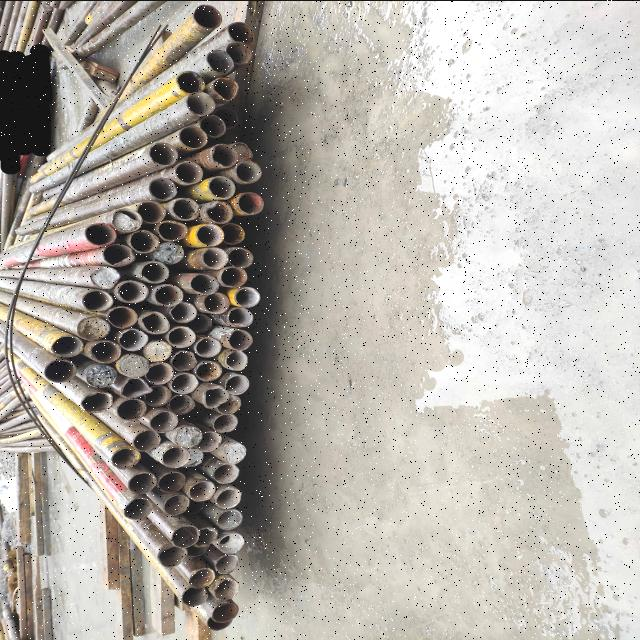pipe: (75, 315, 113, 341), (82, 221, 120, 247), (114, 278, 151, 304), (84, 362, 118, 389), (42, 358, 77, 384), (109, 207, 144, 233), (87, 339, 123, 364), (49, 333, 85, 358), (146, 140, 178, 168), (175, 68, 207, 96), (116, 352, 150, 378), (80, 288, 114, 314), (184, 90, 218, 116), (192, 2, 226, 28), (136, 260, 172, 284), (101, 242, 137, 266), (206, 173, 238, 200), (173, 159, 206, 185), (150, 282, 184, 307), (134, 199, 168, 224), (138, 309, 170, 335), (116, 326, 148, 352), (88, 264, 120, 290), (129, 228, 161, 254), (234, 190, 266, 216), (147, 176, 179, 202), (176, 125, 208, 151), (80, 389, 114, 413), (187, 272, 221, 296), (156, 469, 188, 494), (148, 409, 180, 434), (154, 240, 186, 265), (194, 222, 226, 247), (118, 376, 154, 398), (202, 200, 235, 224), (168, 197, 202, 220), (200, 384, 230, 410), (211, 76, 241, 102), (205, 48, 235, 74), (173, 424, 204, 449), (169, 524, 201, 548), (122, 496, 154, 520), (159, 444, 191, 468), (130, 428, 162, 452), (168, 300, 200, 324), (106, 305, 138, 329), (109, 446, 142, 469), (164, 325, 197, 348), (210, 142, 238, 169), (224, 40, 253, 66), (156, 220, 190, 242), (168, 370, 199, 394), (143, 360, 174, 384), (116, 398, 148, 421), (192, 335, 224, 358), (227, 19, 255, 45), (210, 576, 240, 600), (127, 470, 157, 494), (225, 327, 255, 351), (234, 160, 264, 184), (198, 114, 228, 138), (156, 544, 188, 566), (222, 372, 251, 396), (216, 531, 246, 554), (194, 359, 224, 382), (142, 339, 172, 362), (200, 291, 230, 314), (199, 247, 229, 270), (213, 486, 244, 508), (214, 394, 245, 416), (162, 492, 190, 516), (169, 348, 197, 372), (212, 106, 240, 130), (210, 600, 240, 622), (179, 585, 209, 607), (192, 430, 222, 452), (166, 393, 196, 415), (142, 384, 172, 406), (232, 286, 262, 308), (219, 266, 249, 288), (225, 246, 255, 268), (222, 440, 248, 465), (215, 508, 244, 530), (212, 462, 242, 483), (225, 306, 255, 327), (192, 524, 218, 548), (223, 349, 250, 372), (188, 566, 216, 588), (214, 553, 242, 575), (177, 446, 205, 468), (188, 479, 215, 501), (230, 138, 254, 162), (220, 222, 246, 244), (212, 413, 240, 433), (187, 312, 213, 333), (205, 614, 235, 632), (184, 538, 211, 558), (181, 496, 206, 514)
